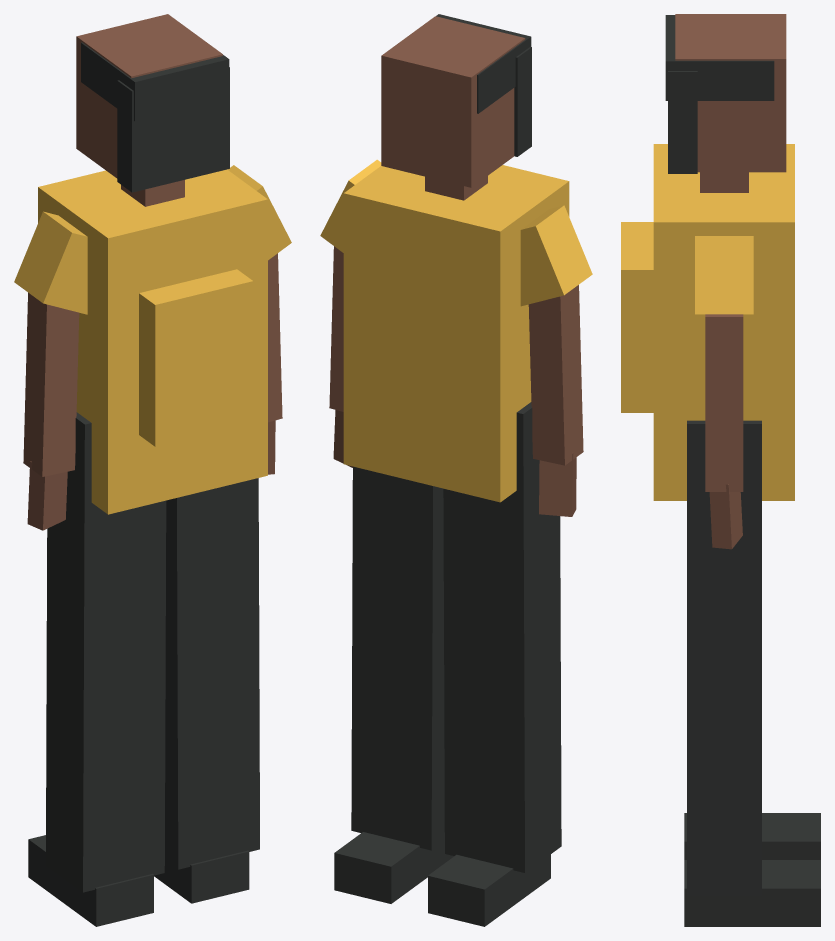
File: pedestrian_10_far.glb
The picture shows the model from 3 angles, left to right: view 1: azimuth 30°, elevation 25°; view 2: azimuth 150°, elevation 25°; view 3: azimuth 270°, elevation 25°; orthographic projection. The views are drawn at different scales.
Visible parts, largest first — view 1: pedestrian_10 crowd_trousers.001, pedestrian_10 crowd_shirt.001, pedestrian_10 crowd_skin.001, pedestrian_10 crowd_rubber.001, Backpack; view 2: pedestrian_10 crowd_trousers.001, pedestrian_10 crowd_shirt.001, pedestrian_10 crowd_skin.001, pedestrian_10 crowd_rubber.001; view 3: pedestrian_10 crowd_shirt.001, pedestrian_10 crowd_trousers.001, pedestrian_10 crowd_skin.001, pedestrian_10 crowd_rubber.001, Backpack.
Part boxes in pixels (x1,y1,x2,y2): pedestrian_10 crowd_trousers.001: (46,412,259,892); pedestrian_10 crowd_shirt.001: (14,165,291,514); pedestrian_10 crowd_skin.001: (23,14,282,530); pedestrian_10 crowd_rubber.001: (28,42,249,926); Backpack: (139,269,253,446); pedestrian_10 crowd_trousers.001: (351,402,561,872); pedestrian_10 crowd_shirt.001: (320,159,592,502); pedestrian_10 crowd_skin.001: (329,16,583,516); pedestrian_10 crowd_rubber.001: (334,14,550,926); pedestrian_10 crowd_shirt.001: (653,144,794,500); pedestrian_10 crowd_trousers.001: (687,420,761,896); pedestrian_10 crowd_skin.001: (675,14,786,549); pedestrian_10 crowd_rubber.001: (665,15,820,926); Backpack: (621,222,653,412).
Size of the model in its own units: 0.527 by 1.71 by 0.3638.
